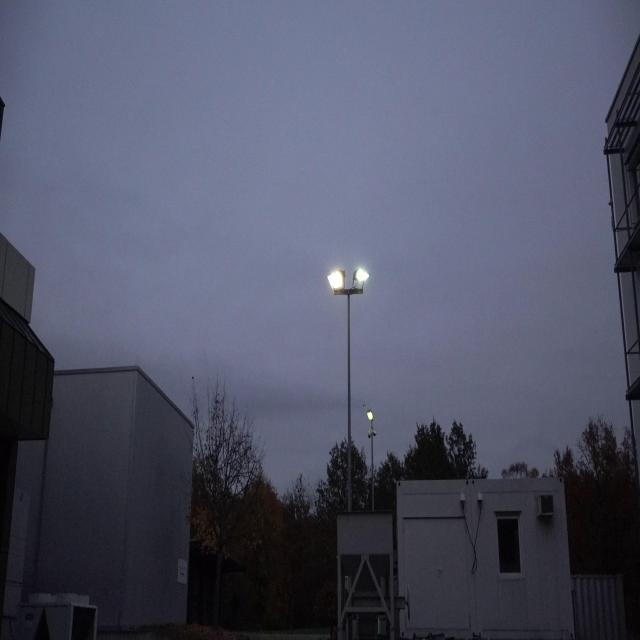drone: (362, 400, 368, 406)
